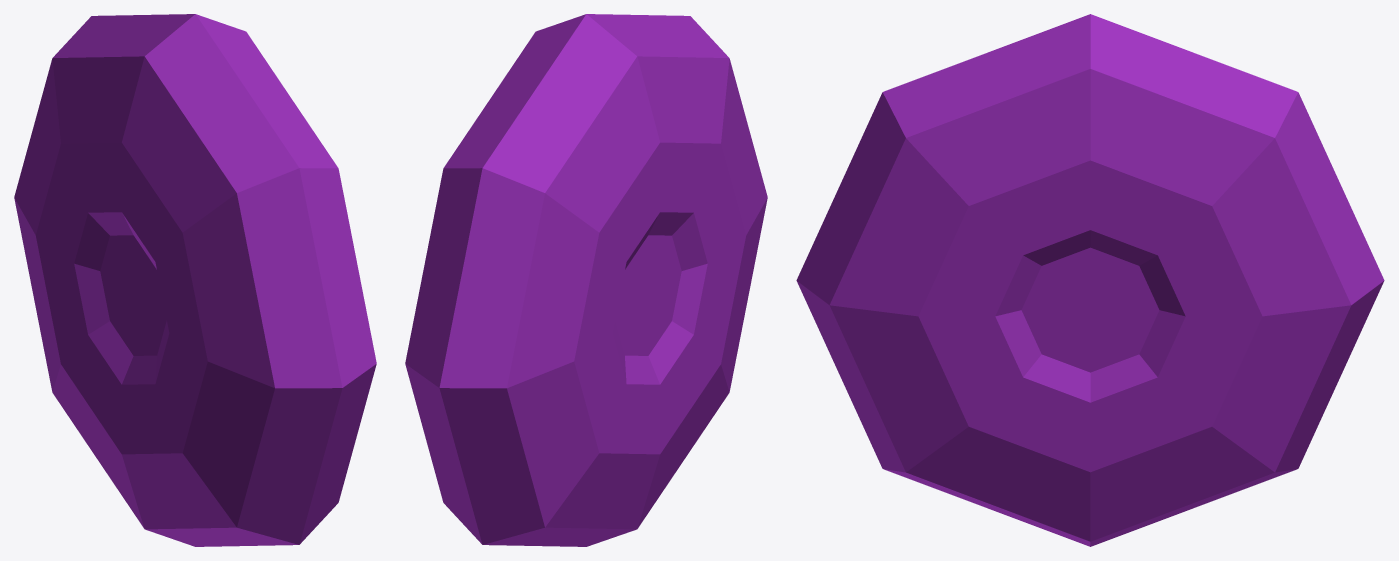
The model's file is Gem.fbx.
3 views of the same model, side by side, from view 1: azimuth 30°, elevation 25°; view 2: azimuth 150°, elevation 25°; view 3: azimuth 270°, elevation 25° (orthographic).
Parts seen in each view (by area): view 1: Gem; view 2: Gem; view 3: Gem.
Boxes of the visible parts, x1,y1,x2,y2 form: Gem: (14, 14, 376, 546); Gem: (405, 14, 767, 546); Gem: (796, 14, 1384, 546).
Size of the model in its own units: 65.19 by 225 by 225.
